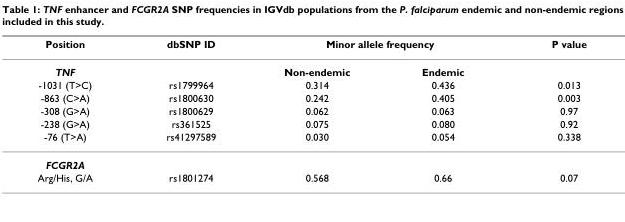table: (36, 37, 585, 183)
table column: (249, 37, 385, 183), (385, 37, 507, 183), (128, 37, 249, 183), (36, 37, 128, 183), (507, 37, 585, 183)
table column header: (36, 37, 585, 78)
table projected row header: (36, 150, 585, 170)
table row: (36, 57, 585, 78), (36, 129, 585, 150), (36, 37, 585, 57), (36, 150, 585, 170), (36, 78, 585, 91), (36, 103, 585, 116), (36, 116, 585, 129), (36, 170, 585, 183), (36, 91, 585, 103)
table spanning cell: (249, 37, 507, 57), (128, 37, 249, 78), (36, 37, 128, 78), (507, 37, 585, 78)
